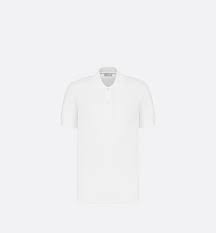S_polo shirt: (63, 63, 160, 201)
